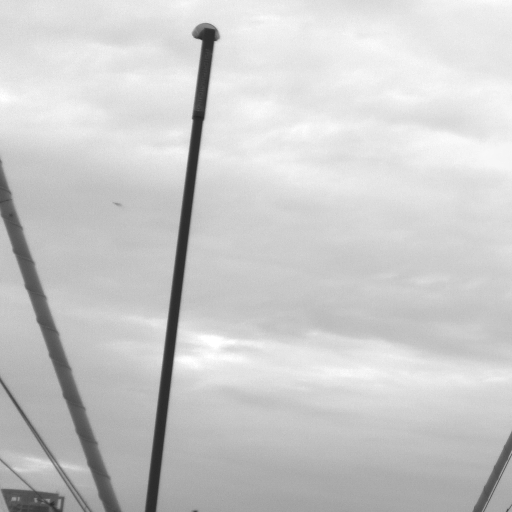uav: (112, 199, 123, 207)
